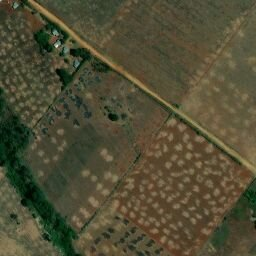tree: (108, 113, 118, 121)
